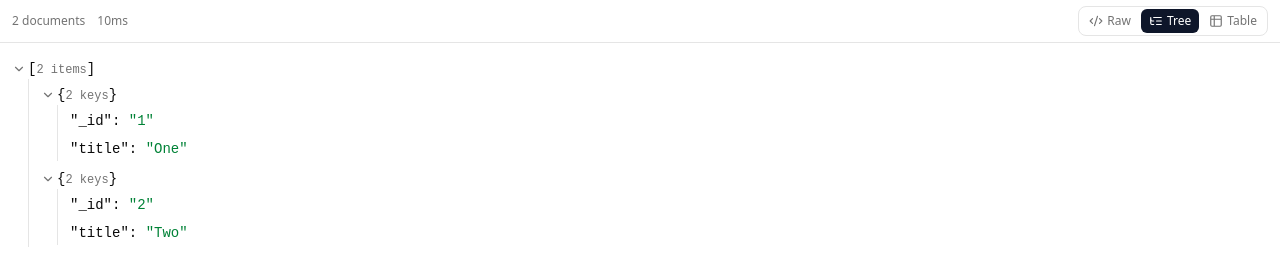
ResultPanel › switches to table view for arrays of objects
The width and height of the screenshot is (1280, 264).
Click the button "Table" at (1233,21), box [1201,9,1265,33]
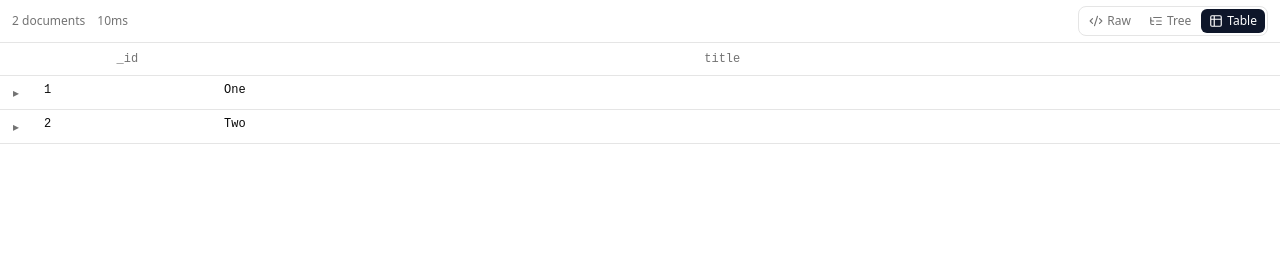
Check: the text "_id" is shown, box [116,51,138,67]
Check: the element with test id "table-view" is shown, box [0,43,1279,144]
